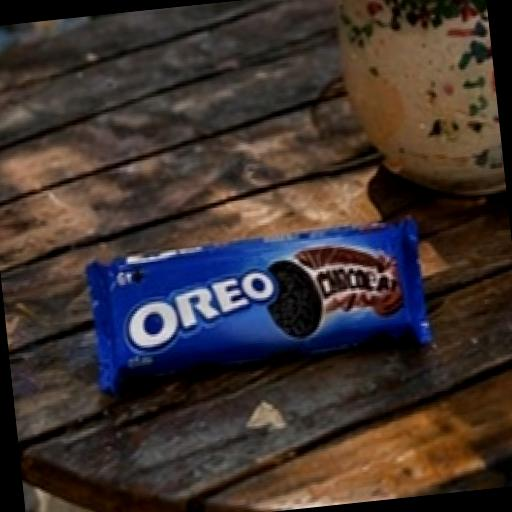oreo: (34, 146, 498, 462)
